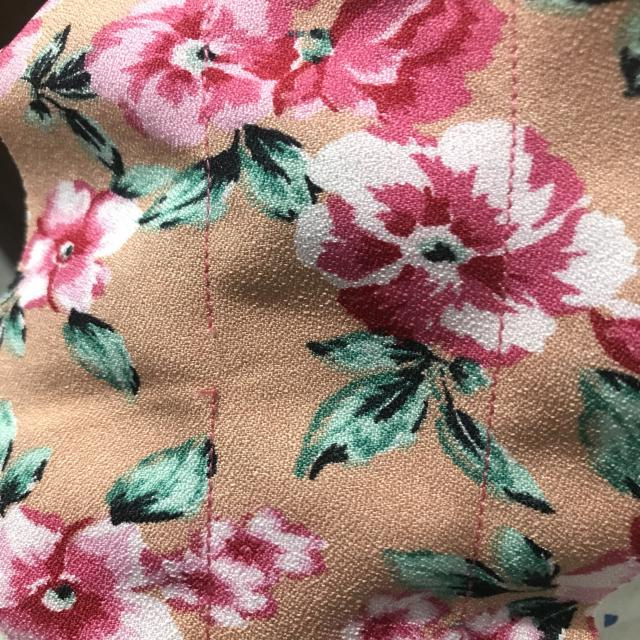broken: (172, 296, 251, 412)
good: (503, 127, 524, 215)
